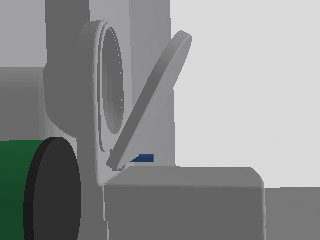lid_1: (105, 30, 192, 169)
